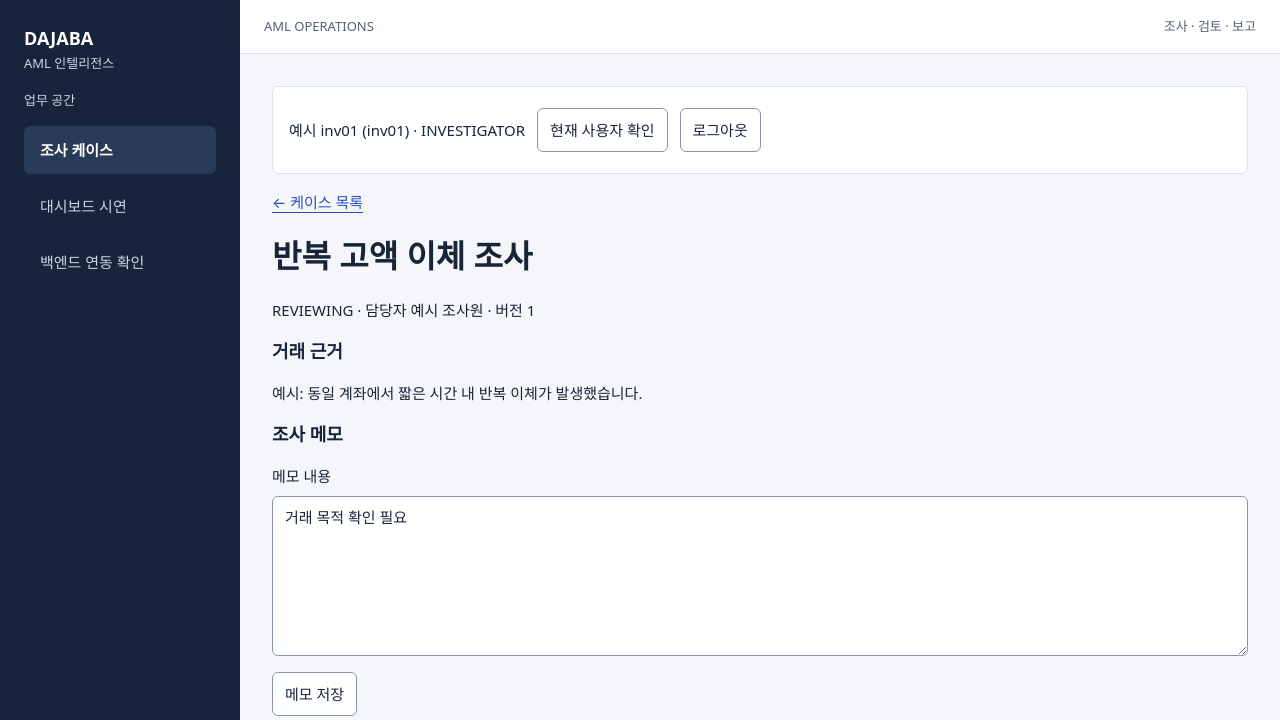
Scenario: 세션과 업무 정보 격리 › me 재확인에서 외부 세션 만료를 발견해도 업무 캐시를 제거한다
Check: the text box labelled "메모 내용" is shown, box [272,496,1248,656]
Click the button "현재 사용자 확인" at [602, 130], box [537,108,668,152]
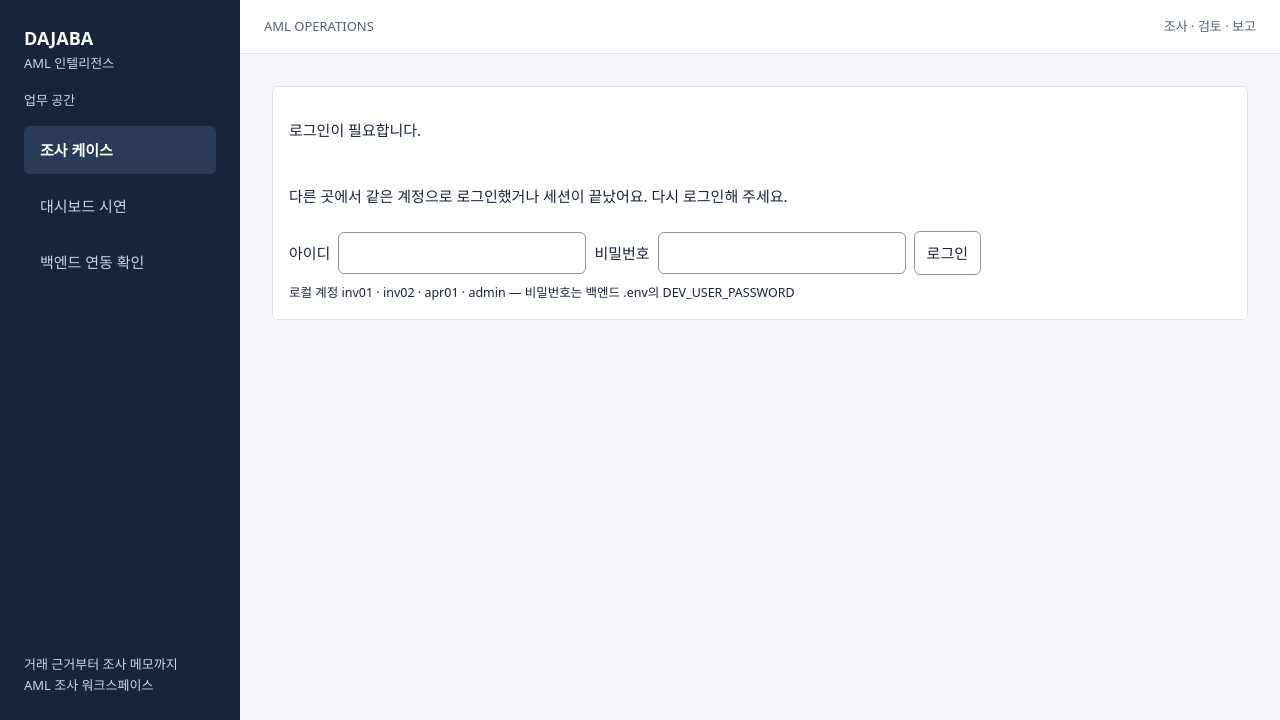
Check: the text "로그인이 필요합니다." is shown, box [289,118,421,142]
